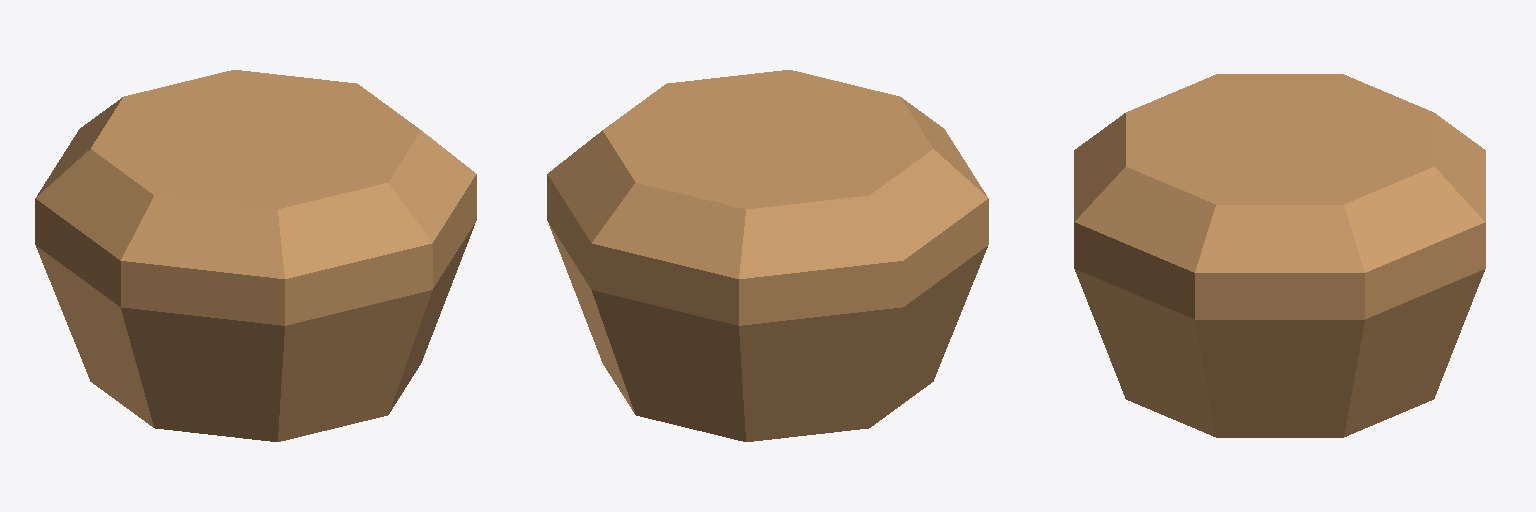
File: Wall_End_Top.obj
3 views of the same model, side by side, from view 1: azimuth 30°, elevation 25°; view 2: azimuth 150°, elevation 25°; view 3: azimuth 270°, elevation 25° (orthographic).
Parts seen in each view (by area): view 1: object1; view 2: object1; view 3: object1.
Part boxes in pixels (x1,y1,x2,y2): object1: (35, 70, 476, 441); object1: (547, 70, 988, 441); object1: (1074, 74, 1485, 437).
Bounding box in the file's own units: 0.4 × 0.25 × 0.4.